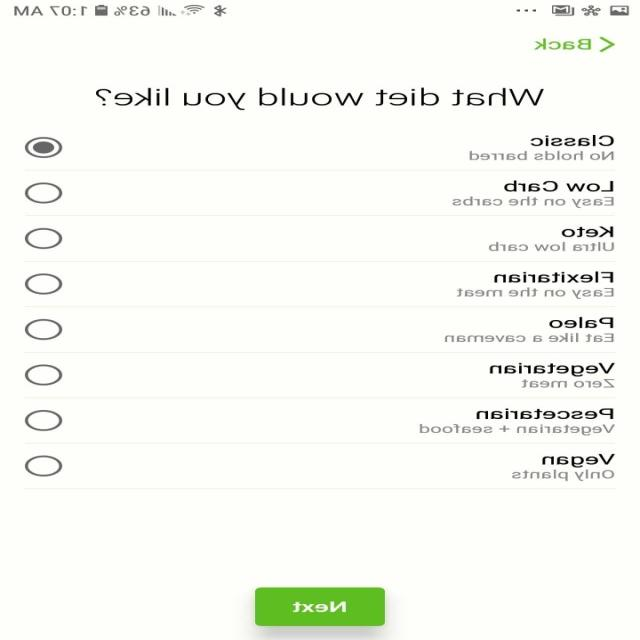Icon: (598, 36, 615, 52)
Text: (96, 87, 544, 110), (419, 423, 616, 436), (452, 196, 614, 208), (456, 287, 614, 299), (489, 362, 615, 377), (444, 332, 614, 342), (476, 408, 614, 419), (470, 150, 614, 160), (494, 270, 614, 282), (504, 180, 614, 192), (512, 469, 615, 481), (489, 242, 615, 251), (541, 453, 615, 468), (530, 134, 616, 146), (520, 378, 614, 388), (550, 316, 614, 328), (534, 38, 592, 50), (560, 225, 614, 237)
TextButton: (255, 587, 386, 626)
